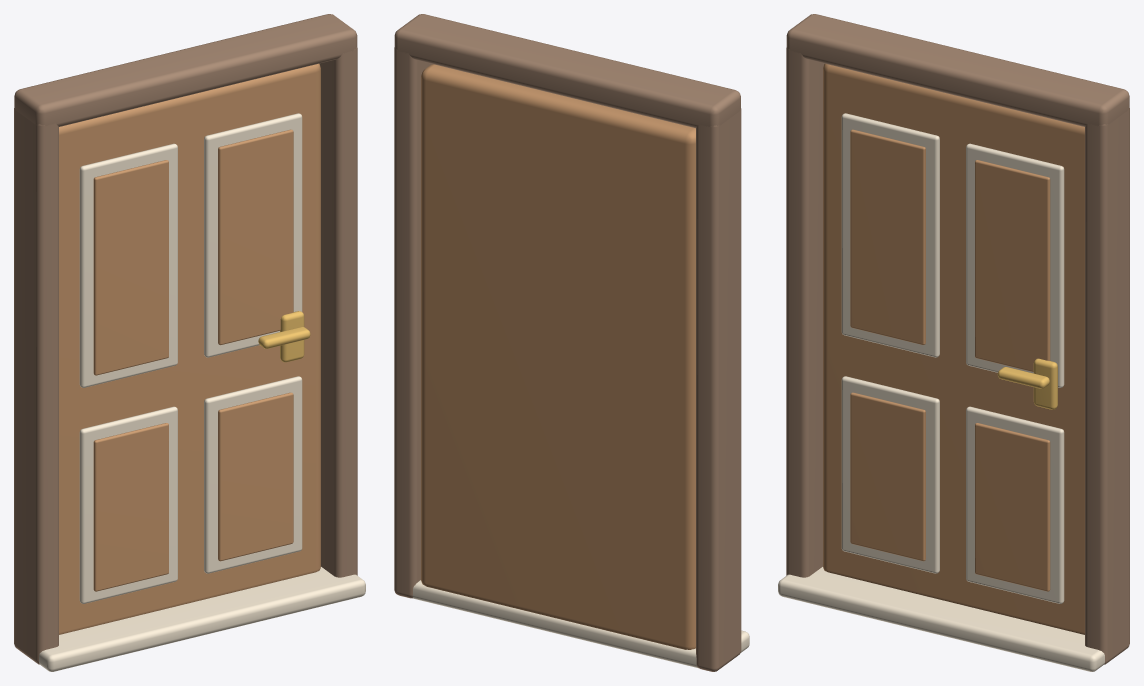
File: doorOakPanel.glb
3 renders of one model, left to right at view 1: azimuth 30°, elevation 25°; view 2: azimuth 150°, elevation 25°; view 3: azimuth 330°, elevation 25°, orthographic.
Parts seen in each view (by area): view 1: Door slab, Door jamb, Door jamb.001, Door lintel, Panel inset.001, Panel inset.003, Panel inset.002, Panel inset, Door threshold, Recessed oak panel.001, Recessed oak panel.003, Recessed oak panel.002 (+3 smaller); view 2: Door slab, Door jamb, Door lintel, Door jamb.001, Door threshold; view 3: Door slab, Door jamb.001, Door jamb, Door lintel, Panel inset.001, Panel inset.003, Panel inset, Panel inset.002, Door threshold, Recessed oak panel.001, Recessed oak panel.003, Recessed oak panel (+3 smaller).
Part boxes in pixels (x1=…): Door slab: x1=59, y1=63, x2=320, y2=634; Door jamb: x1=14, y1=108, x2=58, y2=664; Door jamb.001: x1=319, y1=47, x2=357, y2=577; Door lintel: x1=14, y1=14, x2=357, y2=126; Panel inset.001: x1=93, y1=160, x2=168, y2=375; Panel inset.003: x1=218, y1=129, x2=293, y2=345; Panel inset.002: x1=218, y1=392, x2=293, y2=561; Panel inset: x1=93, y1=423, x2=168, y2=591; Door threshold: x1=39, y1=567, x2=365, y2=671; Recessed oak panel.001: x1=79, y1=143, x2=177, y2=387; Recessed oak panel.003: x1=204, y1=113, x2=302, y2=357; Recessed oak panel.002: x1=204, y1=376, x2=302, y2=573; Door slab: x1=421, y1=64, x2=695, y2=649; Door jamb: x1=696, y1=108, x2=741, y2=671; Door lintel: x1=394, y1=14, x2=740, y2=128; Door jamb.001: x1=394, y1=47, x2=432, y2=598; Door threshold: x1=412, y1=580, x2=749, y2=668; Door slab: x1=823, y1=63, x2=1084, y2=634; Door jamb.001: x1=1085, y1=108, x2=1129, y2=664; Door jamb: x1=786, y1=47, x2=824, y2=577; Door lintel: x1=786, y1=14, x2=1129, y2=126; Panel inset.001: x1=850, y1=129, x2=925, y2=345; Panel inset.003: x1=975, y1=160, x2=1050, y2=371; Panel inset: x1=850, y1=392, x2=925, y2=561; Panel inset.002: x1=975, y1=423, x2=1050, y2=591; Door threshold: x1=778, y1=567, x2=1104, y2=671; Recessed oak panel.001: x1=841, y1=113, x2=939, y2=357; Recessed oak panel.003: x1=966, y1=143, x2=1064, y2=387; Recessed oak panel: x1=841, y1=376, x2=939, y2=573.
Size of the model in its own units: 1.29 by 2.15 by 0.255.
